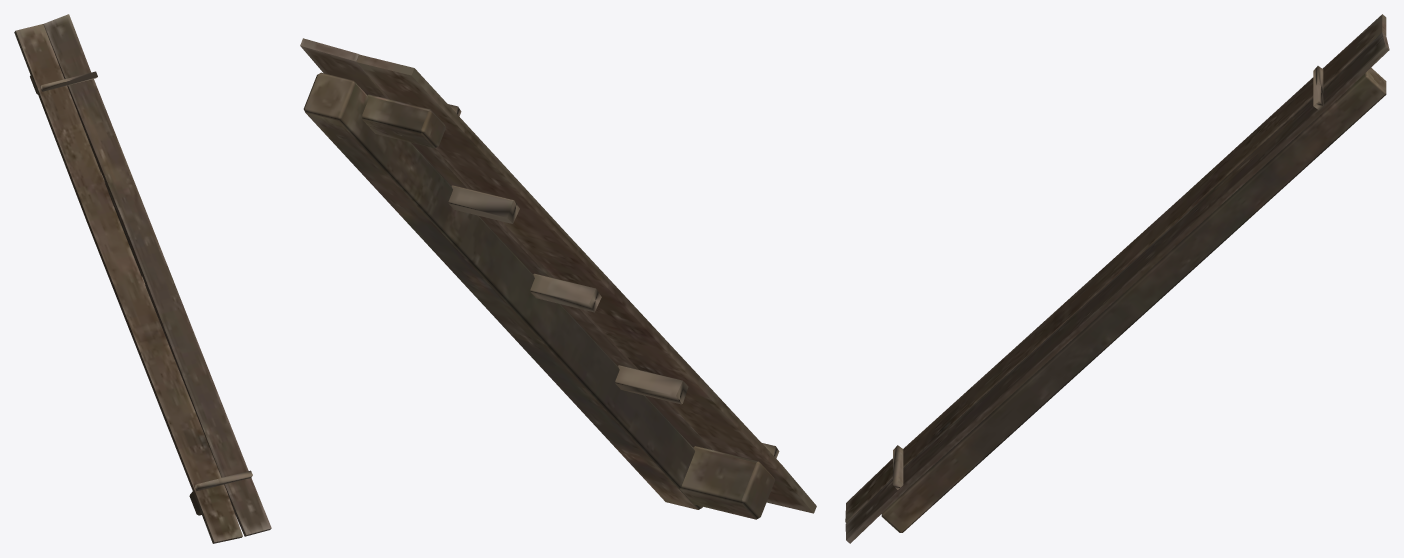
File: roof.frontier.left.line.glb
3 renders of one model, left to right at view 1: azimuth 30°, elevation 25°; view 2: azimuth 150°, elevation 25°; view 3: azimuth 270°, elevation 25°, orthographic. The views are drawn at different scales.
Parts seen in each view (by area): view 1: model; view 2: model; view 3: model.
Part boxes in pixels (<box>): model: <box>14,14,271,543</box>; model: <box>300,38,816,519</box>; model: <box>845,14,1389,543</box>.
Size of the model in its own units: 0.5571 by 3.4 by 3.37.
1 material, 1 textured.
